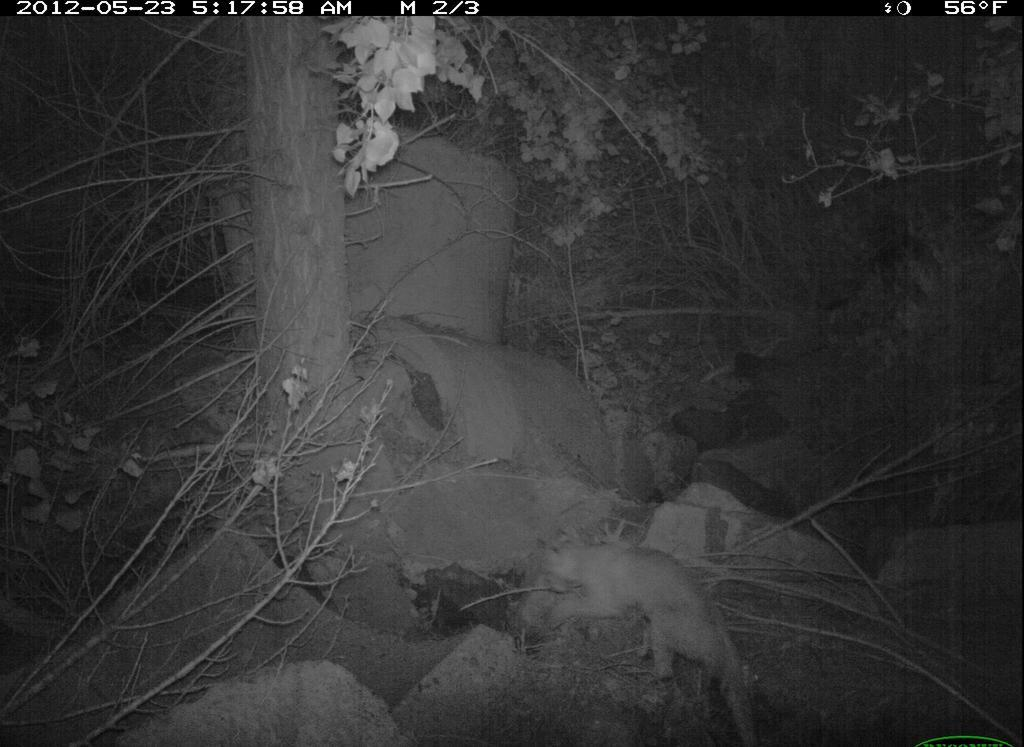bobcat: (528, 515, 772, 743)
